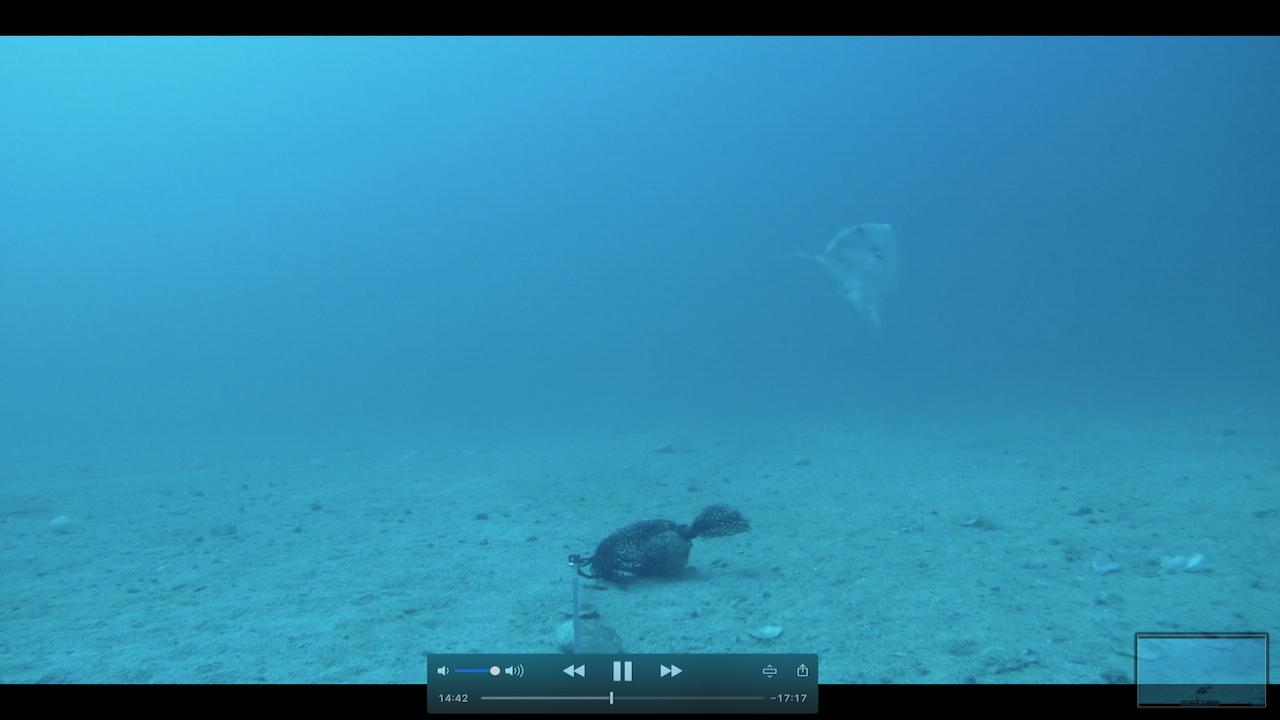balistes: (787, 202, 902, 330)
